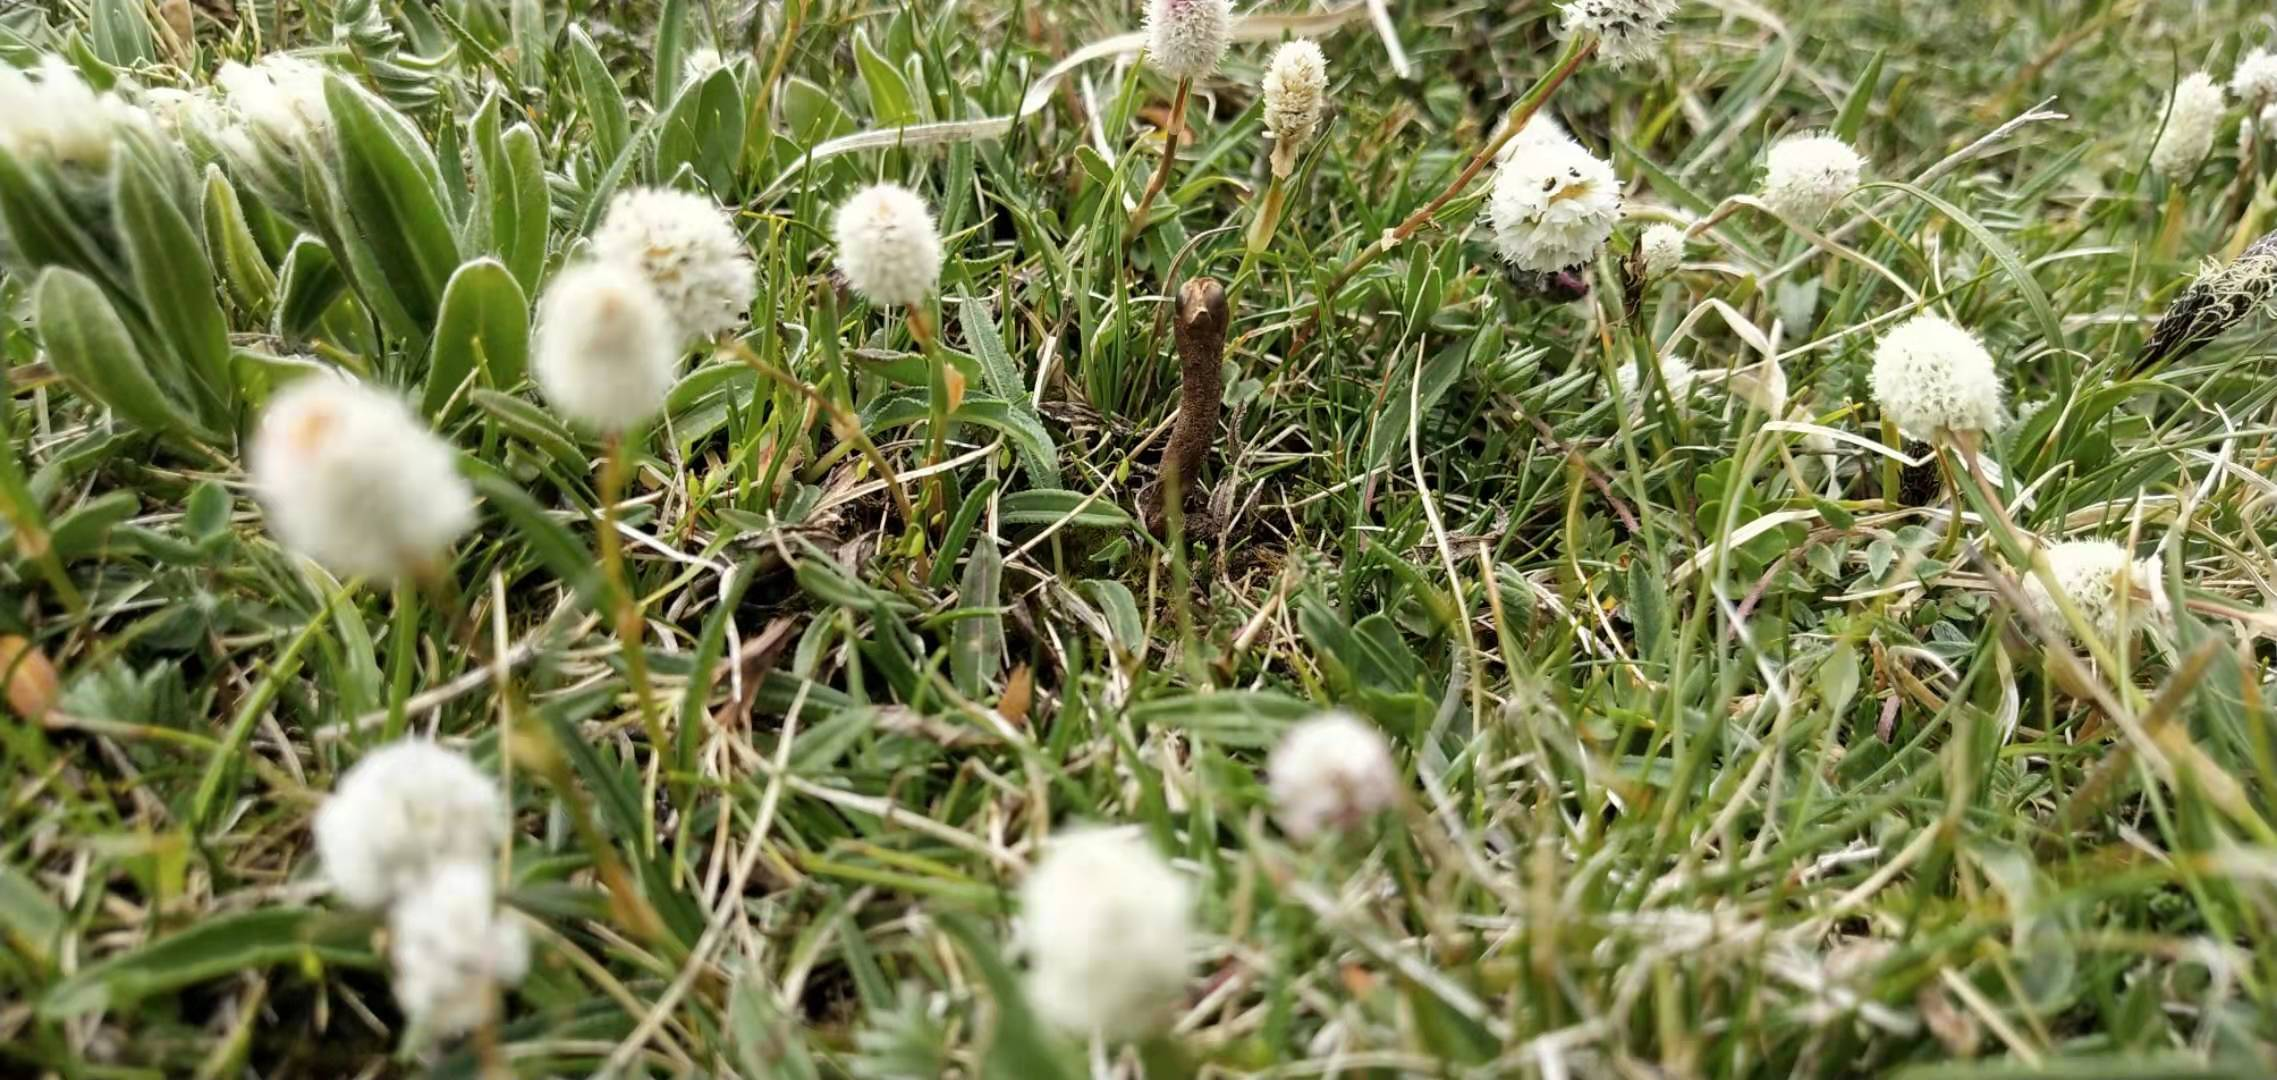cpf: (1165, 271, 1245, 528)
